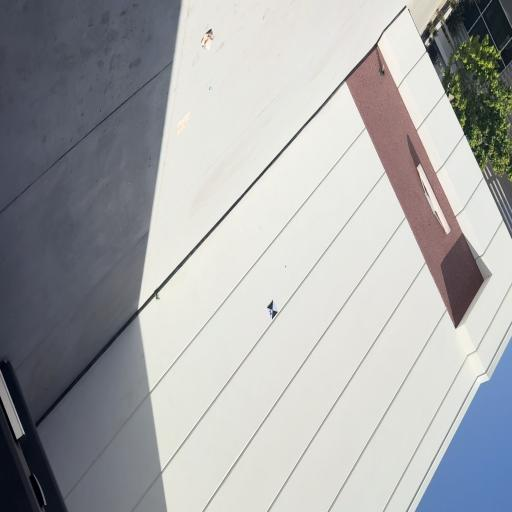target7: (267, 299, 278, 320)
